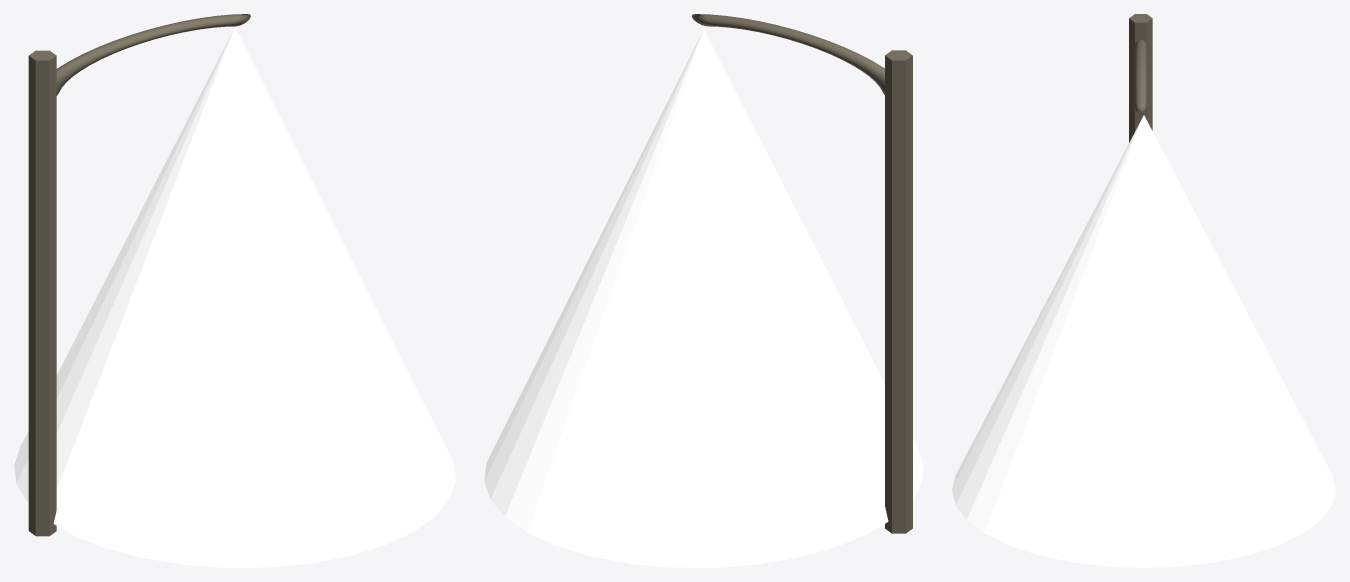
File: transport_street_light.glb
3 renders of one model, left to right at view 1: azimuth 30°, elevation 25°; view 2: azimuth 150°, elevation 25°; view 3: azimuth 270°, elevation 25°, orthographic. The views are drawn at different scales.
Visible parts, largest first — view 1: Cone, Pole, Torus.001; view 2: Cone, Pole, Torus.001; view 3: Cone, Pole, Torus.001.
Part boxes in pixels (<box>): Cone: <box>14,27,455,567</box>; Pole: <box>28,50,56,536</box>; Torus.001: <box>56,14,250,95</box>; Cone: <box>484,30,923,567</box>; Pole: <box>885,50,912,533</box>; Torus.001: <box>692,14,885,94</box>; Cone: <box>952,115,1335,567</box>; Pole: <box>1129,14,1152,142</box>; Torus.001: <box>1134,39,1146,111</box>.
Size of the model in its own units: 0.504 by 0.5813 by 0.5055.
